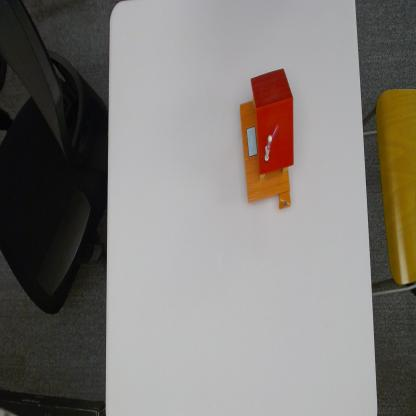House: (240, 68, 296, 210)
